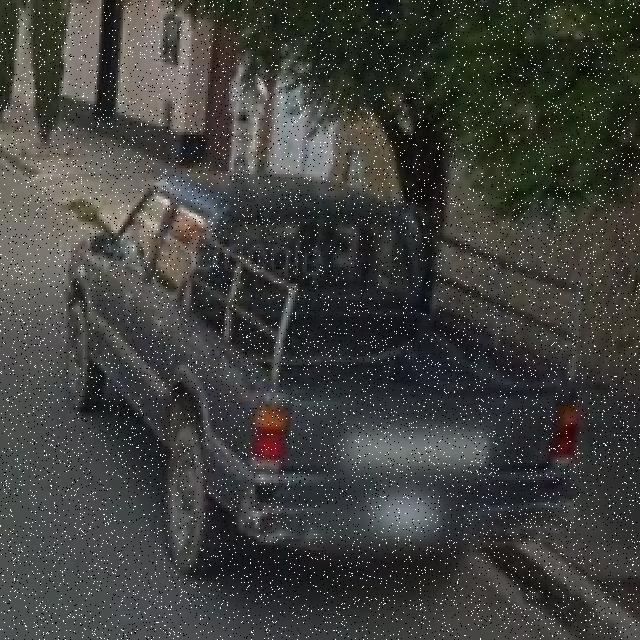cars: (51, 168, 589, 583)
